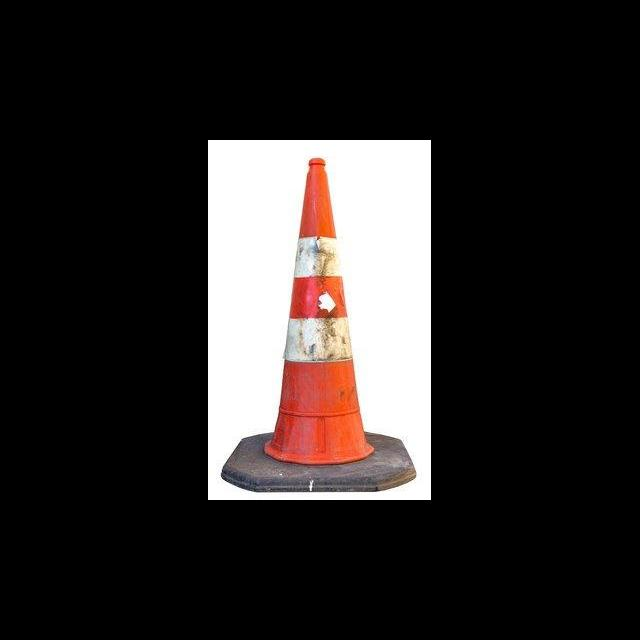Safety Cone: (220, 156, 417, 493)
